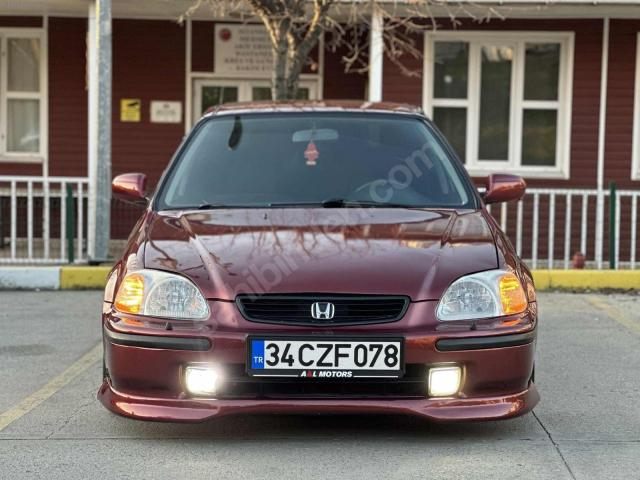plaka: (250, 338, 403, 377)
